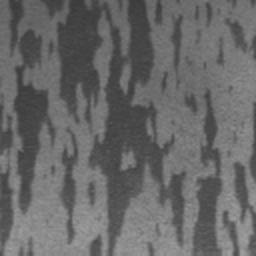Red iron sheet: (0, 0, 256, 256), (214, 17, 256, 67), (195, 1, 214, 27), (17, 234, 35, 256), (147, 241, 156, 255), (230, 0, 238, 9), (227, 84, 234, 92)
